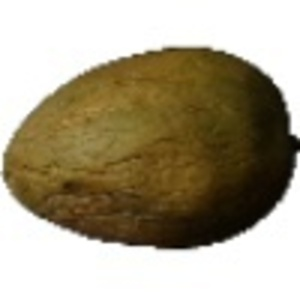mamão: (3, 40, 292, 253)
